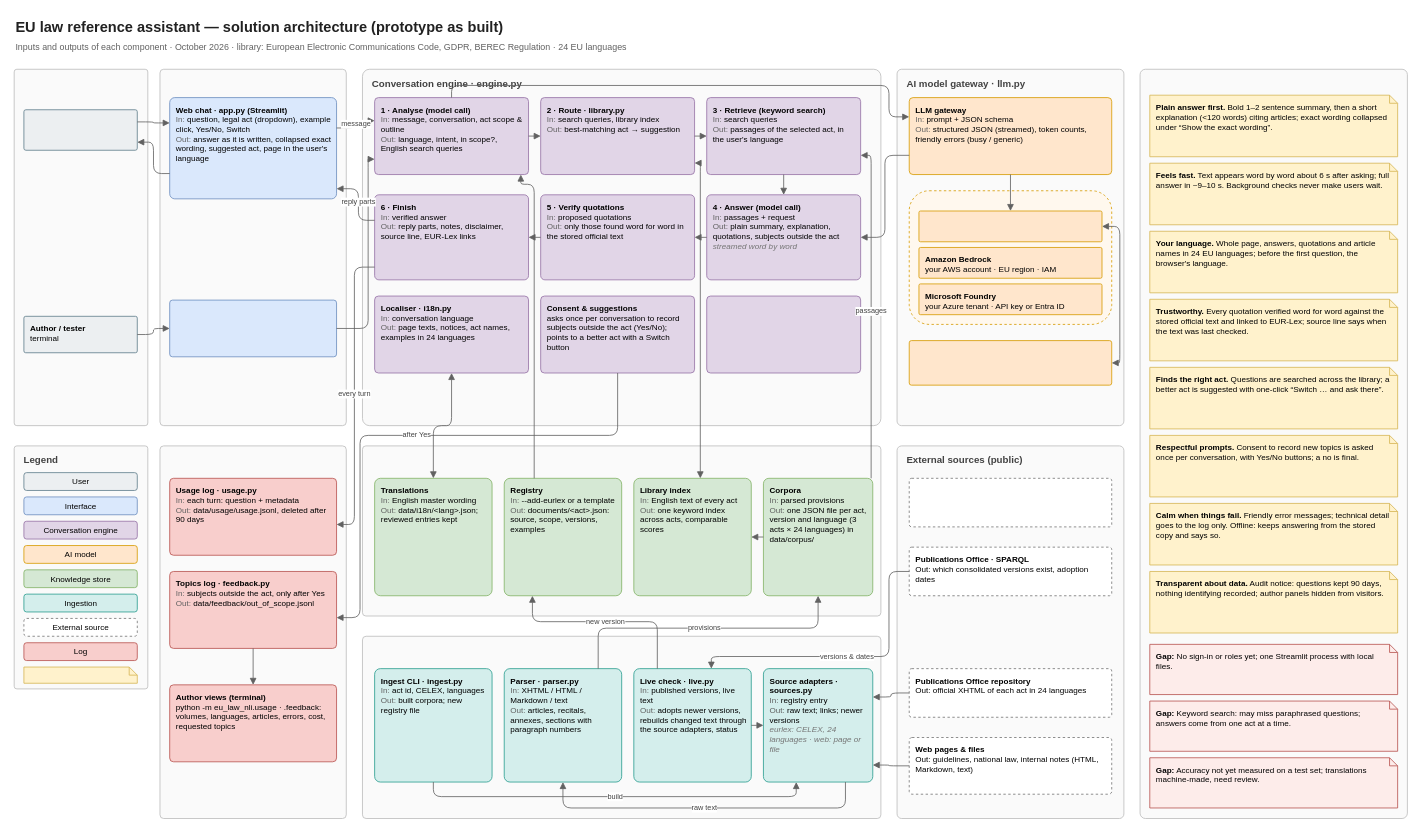
Some shapes in this 1422 by 833 pixel diagram are drawn without their labels. Each missing label, with the box of its shape:
Anthropic API default · API key: (918, 210, 1102, 242)
Claude Sonnet 5.5 JSON-schema output · effort: low · streaming: (908, 340, 1112, 385)
EUR-Lex receives the deep links shown under every quotation: (908, 477, 1112, 527)
Ingestion & updates: (362, 635, 881, 819)
Interfaces: (159, 68, 346, 426)
Knowledge store · documents/ and data/: (362, 445, 881, 616)
Legal professional web browser, any EU language: (23, 109, 137, 150)
Logs & author views: (159, 445, 346, 819)
Note on user-friendliness: (23, 666, 137, 683)
Provider (NLI_PROVIDER): (908, 190, 1112, 324)
Session language · consent state · recent history · random id (no user identity): (706, 295, 861, 373)
Terminal chat · cli.py In: question, /acts, /switch Out: full answer as text: (169, 299, 337, 357)
User-friendliness (as built): (1139, 68, 1407, 819)
Users: (13, 68, 148, 426)
